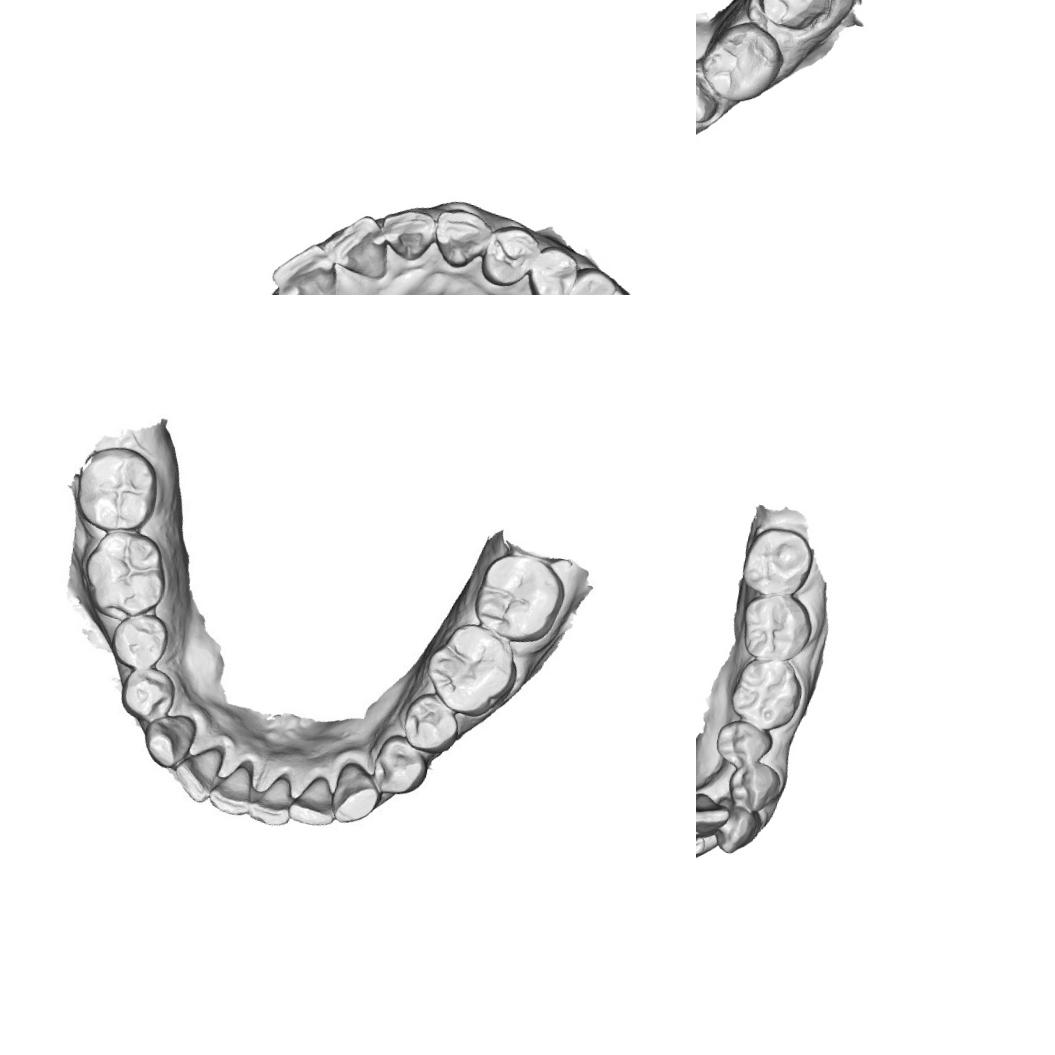canine: (426, 203, 492, 276), (325, 756, 388, 831), (136, 706, 198, 774), (706, 793, 766, 860)
crown: (749, 0, 840, 36), (696, 68, 726, 127)
incisor: (322, 210, 394, 282), (205, 749, 264, 821), (268, 237, 341, 295), (372, 200, 436, 264), (164, 740, 224, 807), (246, 766, 301, 832), (288, 767, 340, 832), (696, 789, 734, 843), (696, 812, 711, 867)
molar: (417, 616, 524, 723), (468, 545, 570, 647), (78, 526, 176, 626), (68, 439, 165, 537), (696, 12, 790, 110), (725, 649, 810, 734), (734, 585, 818, 666), (736, 522, 818, 603), (550, 261, 634, 295)
premolar: (102, 606, 173, 674), (394, 688, 464, 756), (477, 220, 542, 292), (366, 731, 429, 802), (117, 660, 180, 726), (721, 754, 785, 818), (710, 715, 778, 773), (524, 240, 582, 295)
